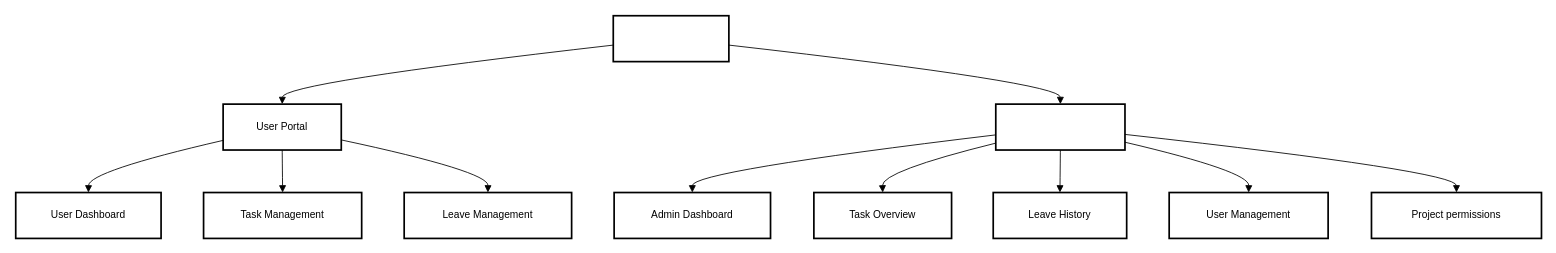
This 1556x253 diagram has some shape labels left out. Each missing label, with the box of its shape:
Admin Portal: (994, 103, 1125, 150)
Login Page: (612, 14, 729, 62)
